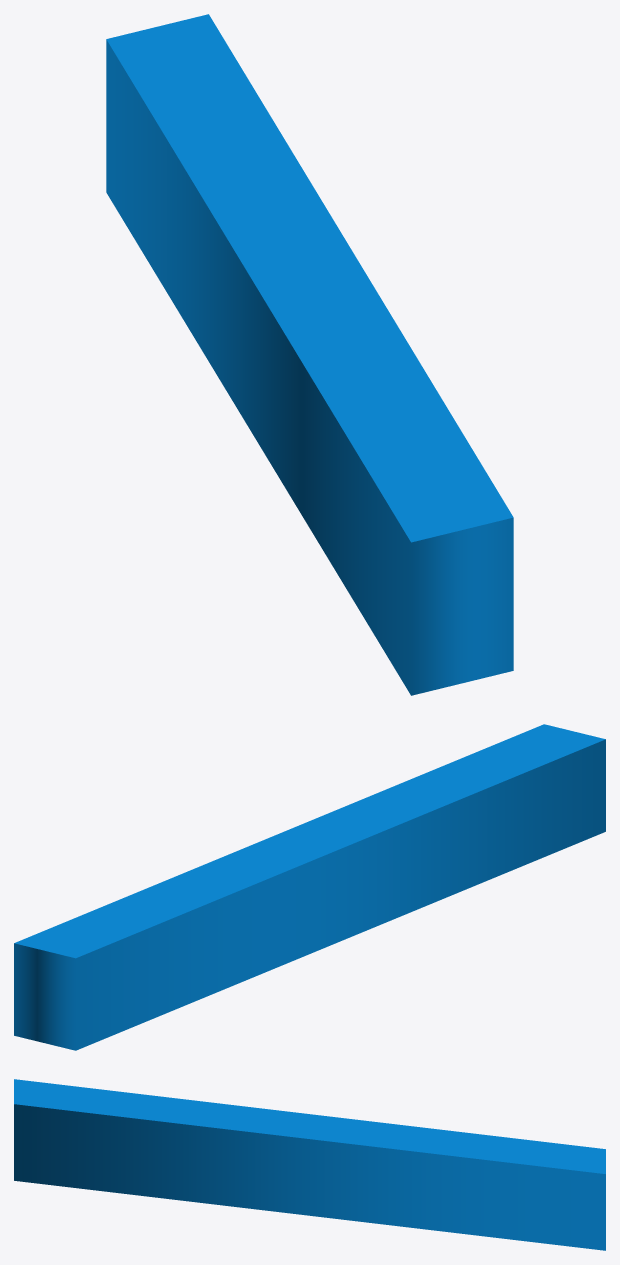
File: Divide.fbx
3 renders of one model, top to bottom at view 1: azimuth 30°, elevation 25°; view 2: azimuth 150°, elevation 25°; view 3: azimuth 270°, elevation 25°, orthographic. The views are drawn at different scales.
Parts seen in each view (by area): view 1: Divide; view 2: Divide; view 3: Divide.
Part boxes in pixels (bbox=[...]): Divide: bbox=[106, 14, 513, 695]; Divide: bbox=[14, 724, 605, 1050]; Divide: bbox=[14, 1079, 605, 1250].
Size of the model in its own units: 140 by 20 by 53.2.
